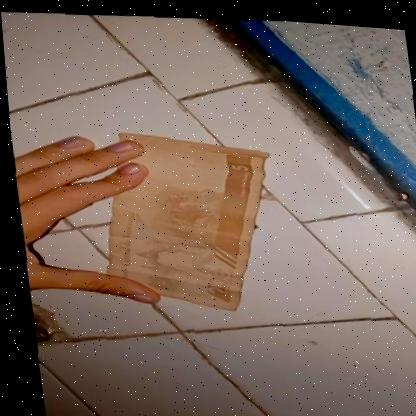five-back-vef: (84, 121, 286, 317)
